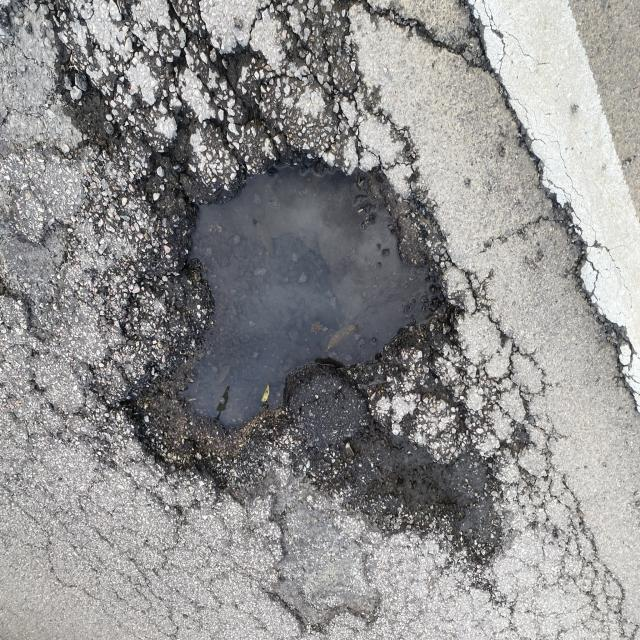pothole: (82, 94, 495, 516)
